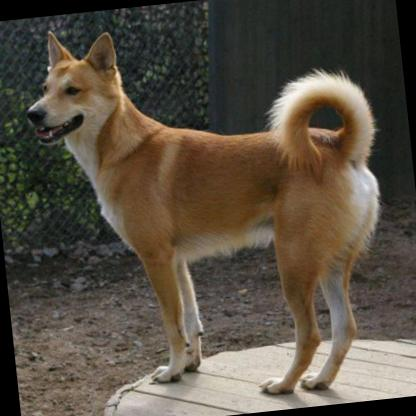dhole: (15, 0, 398, 416)
